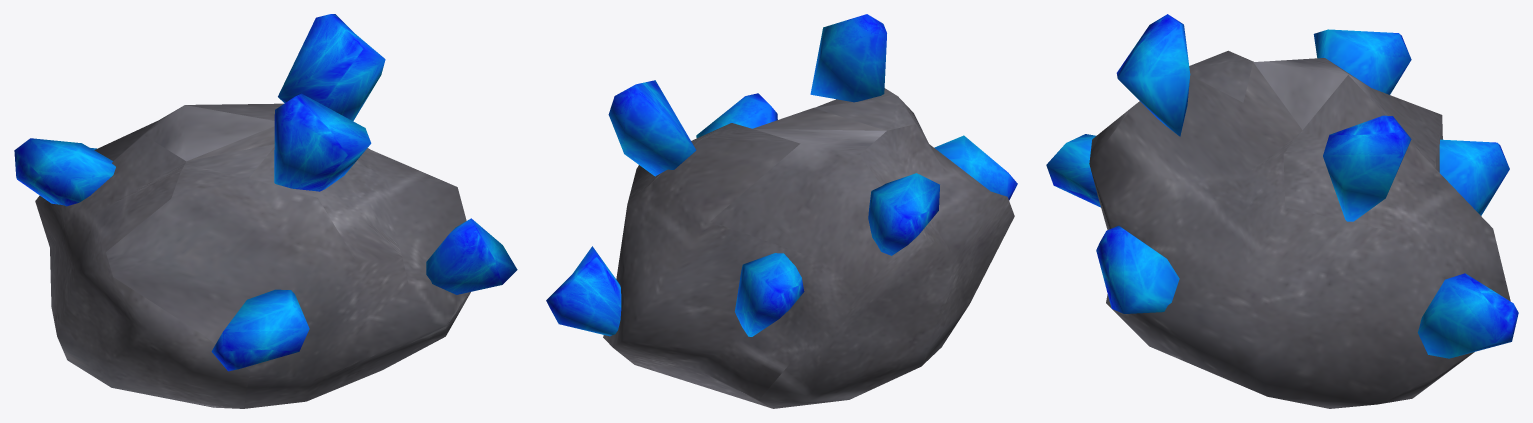
The model's file is metalstoneOreLP.fbx.
The picture shows the model from 3 angles, left to right: view 1: azimuth 30°, elevation 25°; view 2: azimuth 150°, elevation 25°; view 3: azimuth 270°, elevation 25°; orthographic projection. The views are drawn at different scales.
Visible parts, largest first — view 1: Ore.021, MetalParticle.017; view 2: Ore.021, MetalParticle.017; view 3: Ore.021, MetalParticle.017.
Part boxes in pixels (x1,y1,x2,y2): Ore.021: (35,103,470,408); MetalParticle.017: (14,14,517,371); Ore.021: (603,88,1014,408); MetalParticle.017: (546,14,1017,336); Ore.021: (1089,50,1510,408); MetalParticle.017: (1046,14,1518,358).
Size of the model in its own units: 355 by 321 by 399.
